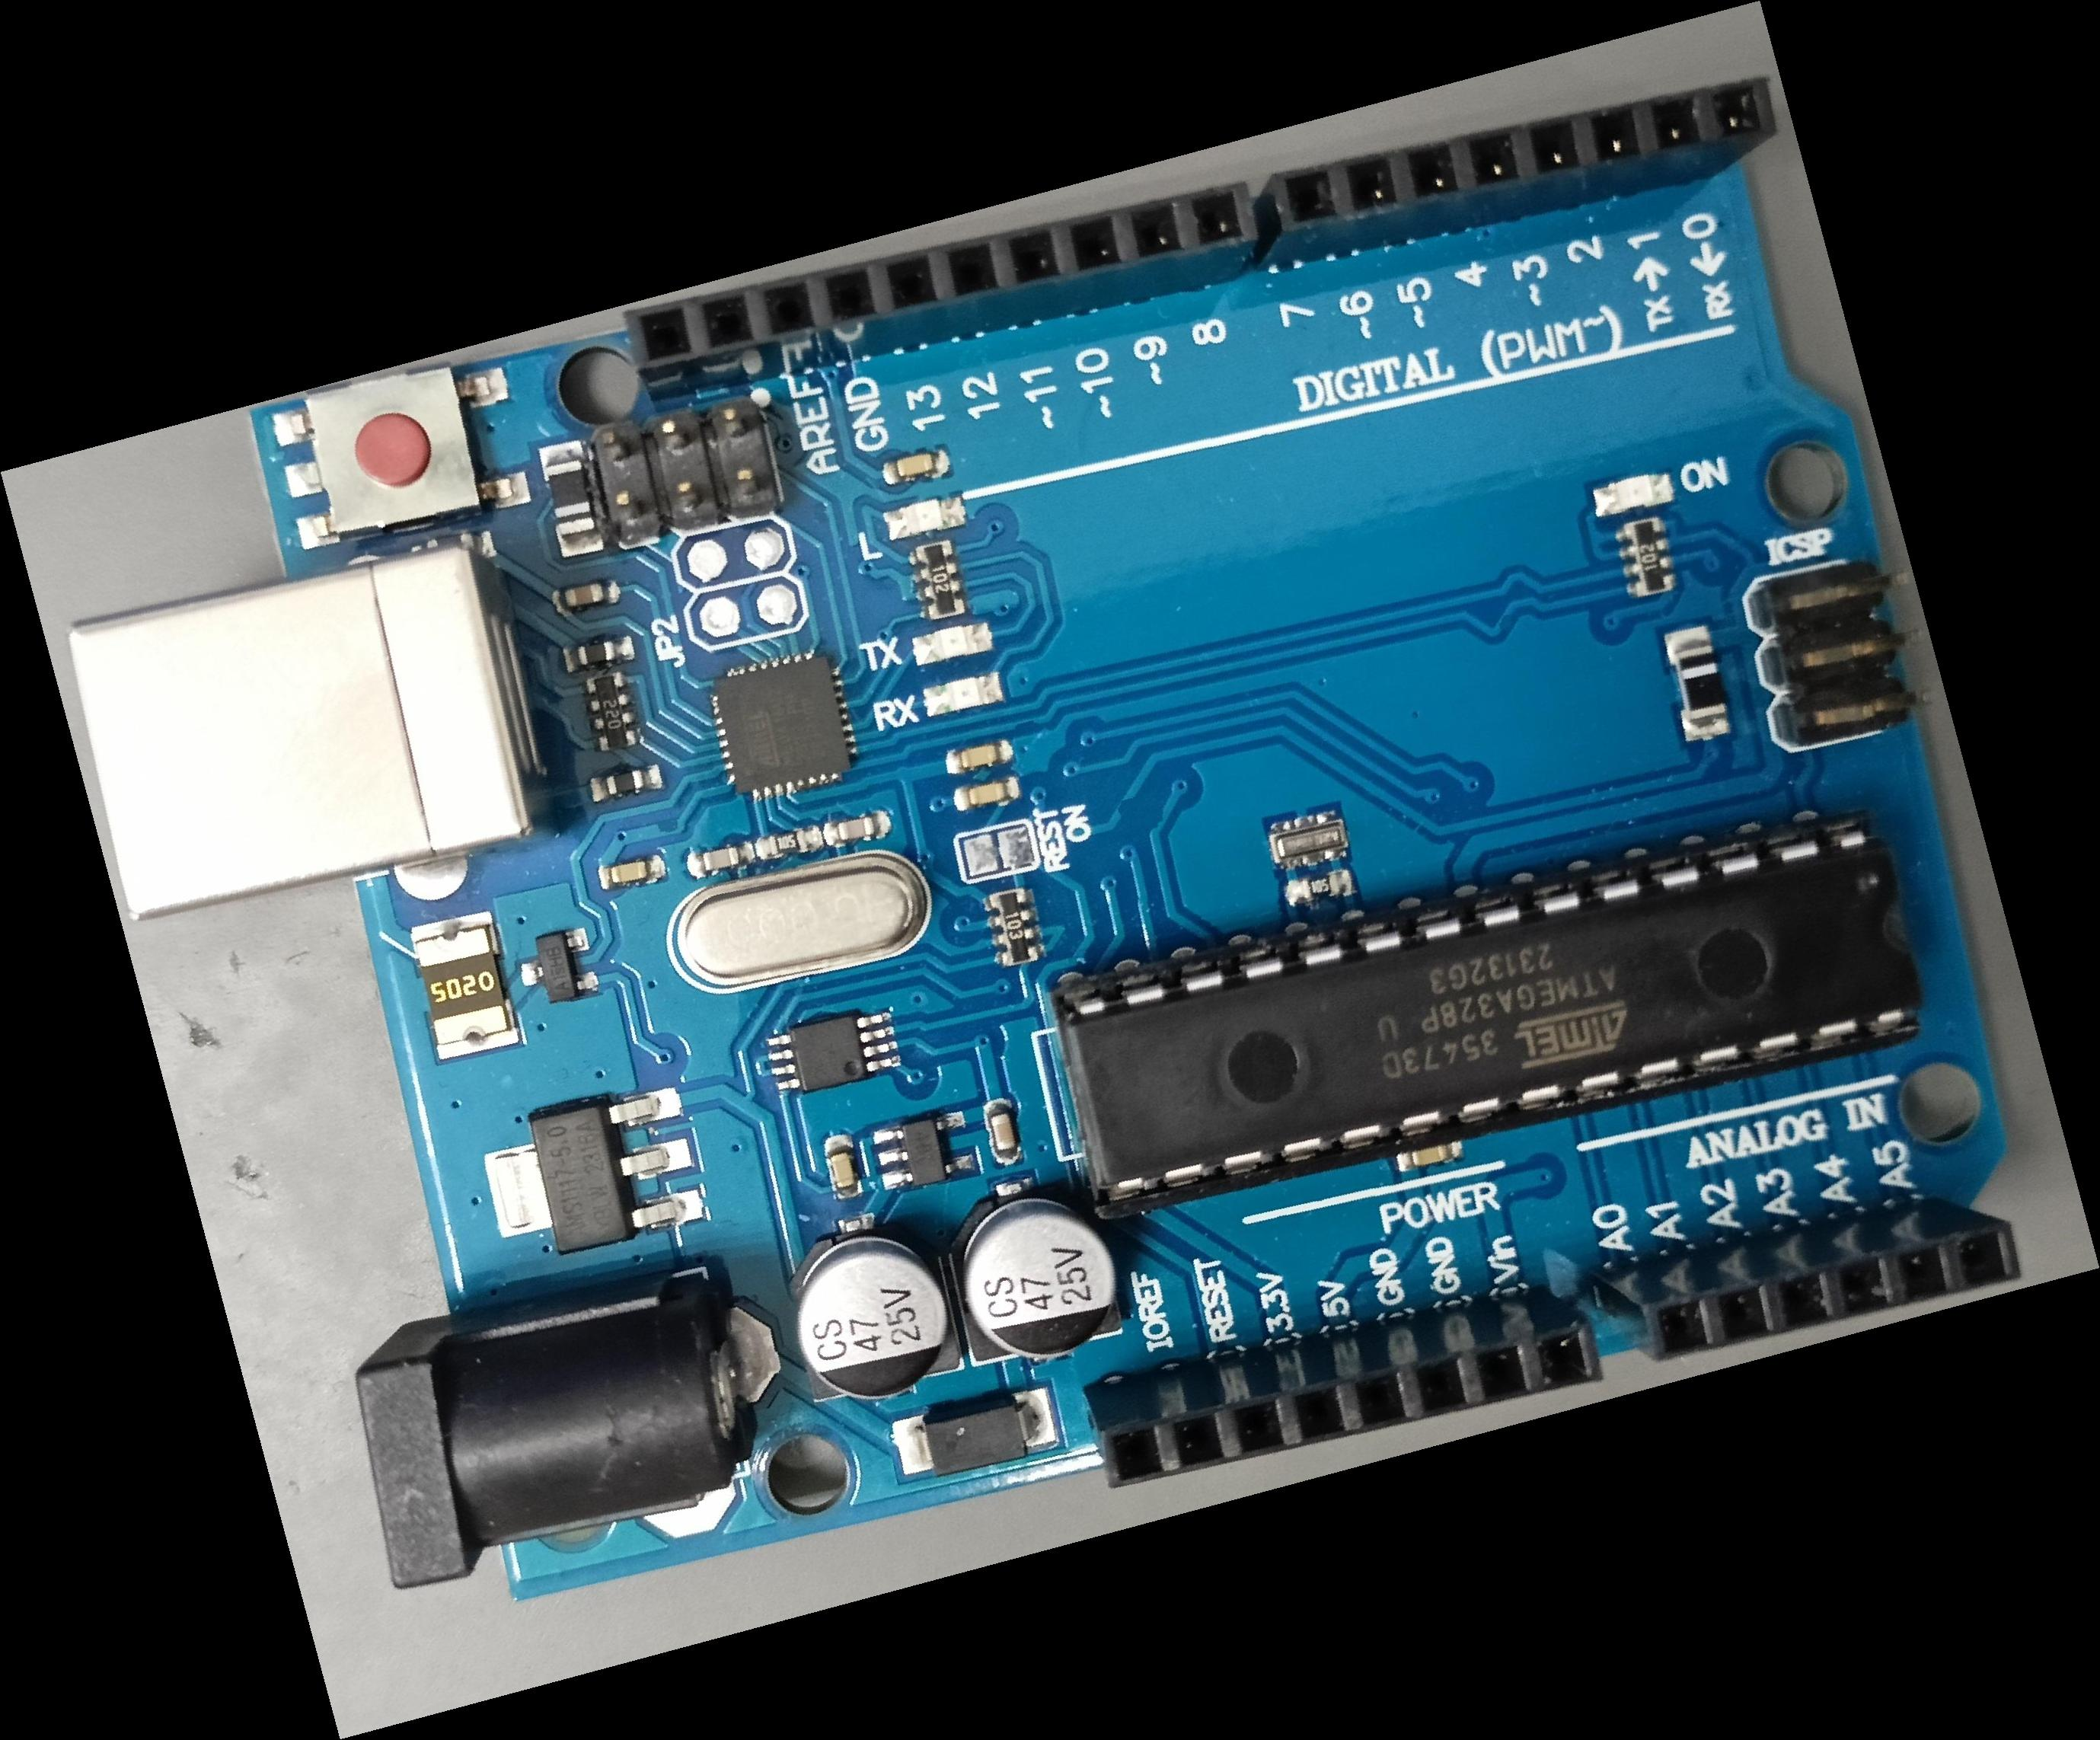ATmega328 chip: (1050, 809, 1926, 1220)
Arduino board: (63, 75, 2023, 1599)
USB: (66, 544, 555, 921)
capacitor: (949, 1184, 1122, 1365), (788, 1226, 959, 1402)
mouse bite: (656, 584, 680, 1067), (1115, 563, 1137, 1048), (1013, 486, 1036, 962), (1148, 575, 1169, 1060), (1495, 380, 1516, 863)
pins: (623, 180, 1256, 406), (1080, 1281, 1603, 1487), (1251, 75, 1774, 270), (1592, 1193, 2020, 1360)
resistor: (1615, 289, 1681, 826), (982, 661, 1041, 1194), (910, 310, 968, 849), (583, 441, 638, 980)
